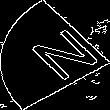N_SE: (12, 23, 98, 87)
